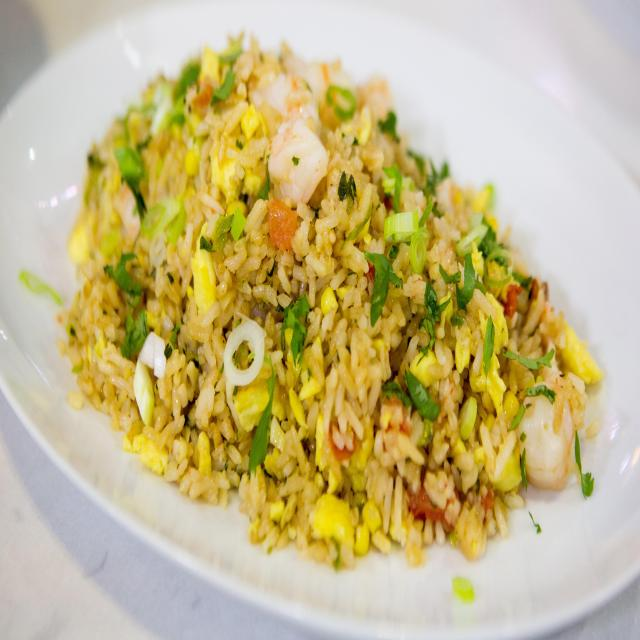Nasi Goreng: (58, 32, 601, 570)
